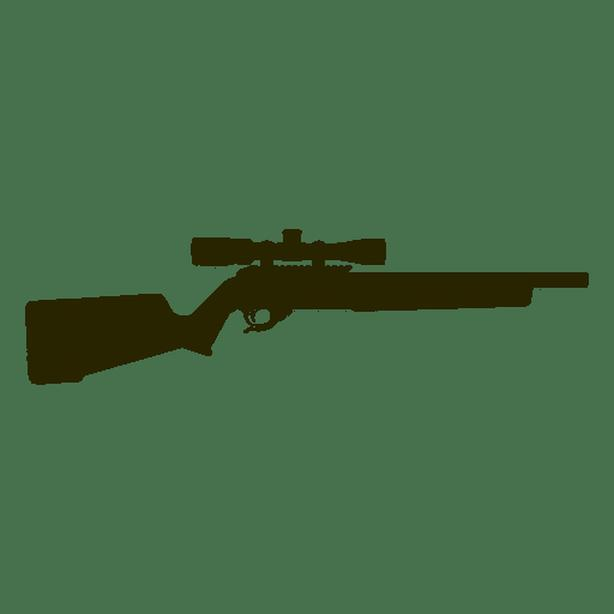Firearm: (11, 218, 602, 373)
